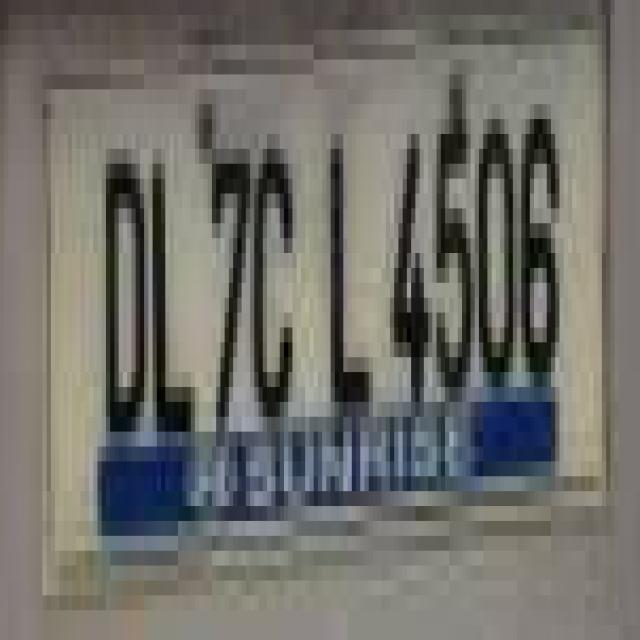plate: (9, 15, 606, 536)
